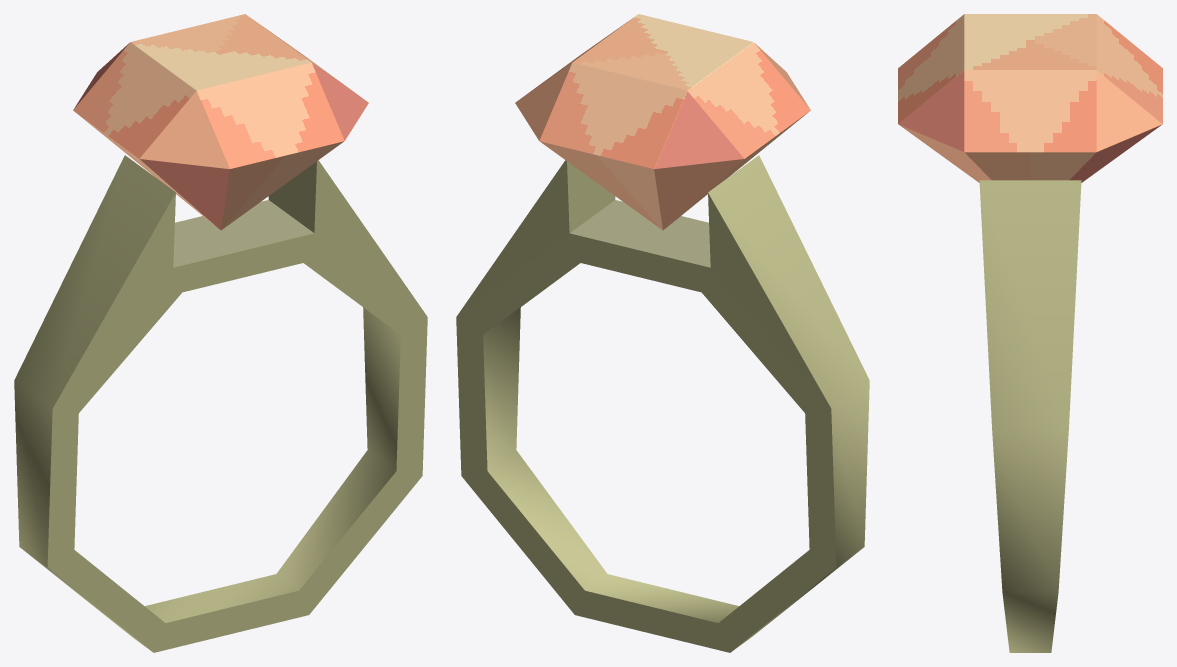
Rendered from 0034_Ruby_Ring.glb.
The picture shows the model from 3 angles, left to right: view 1: azimuth 30°, elevation 25°; view 2: azimuth 150°, elevation 25°; view 3: azimuth 270°, elevation 25°; orthographic projection.
Visible parts, largest first — view 1: part_0; view 2: part_0; view 3: part_0.
Boxes of the visible parts, x1=… form: part_0: x1=14, y1=14, x2=427, y2=652; part_0: x1=456, y1=14, x2=869, y2=652; part_0: x1=898, y1=14, x2=1162, y2=652.
Size of the model in its own units: 0.0323 by 0.0472 by 0.0198.
1 material, 1 textured.
